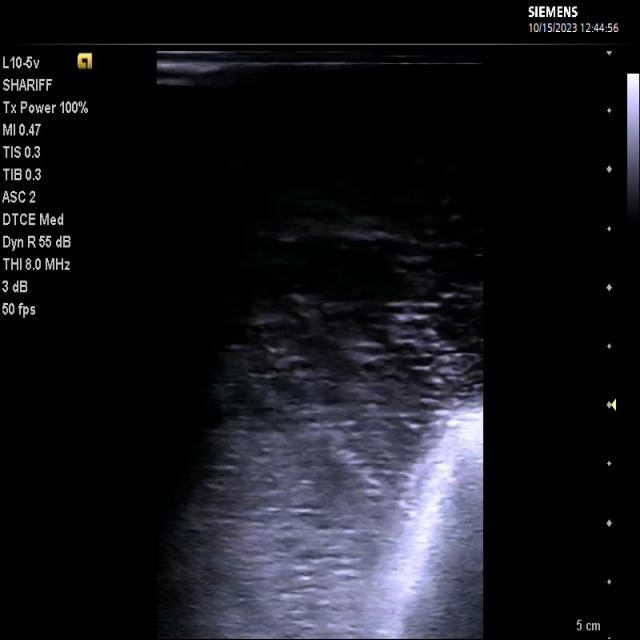tissue: (360, 406, 485, 640)
